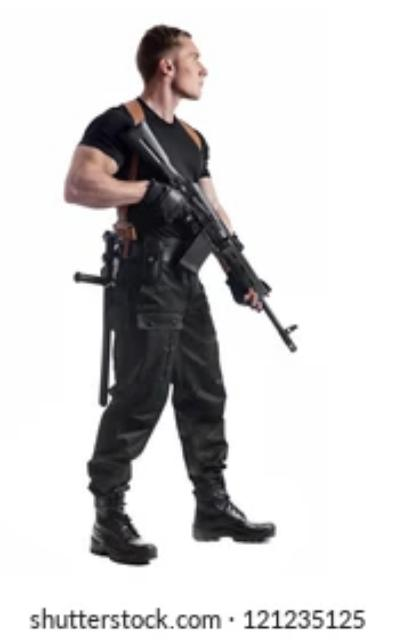other: (62, 24, 277, 564)
